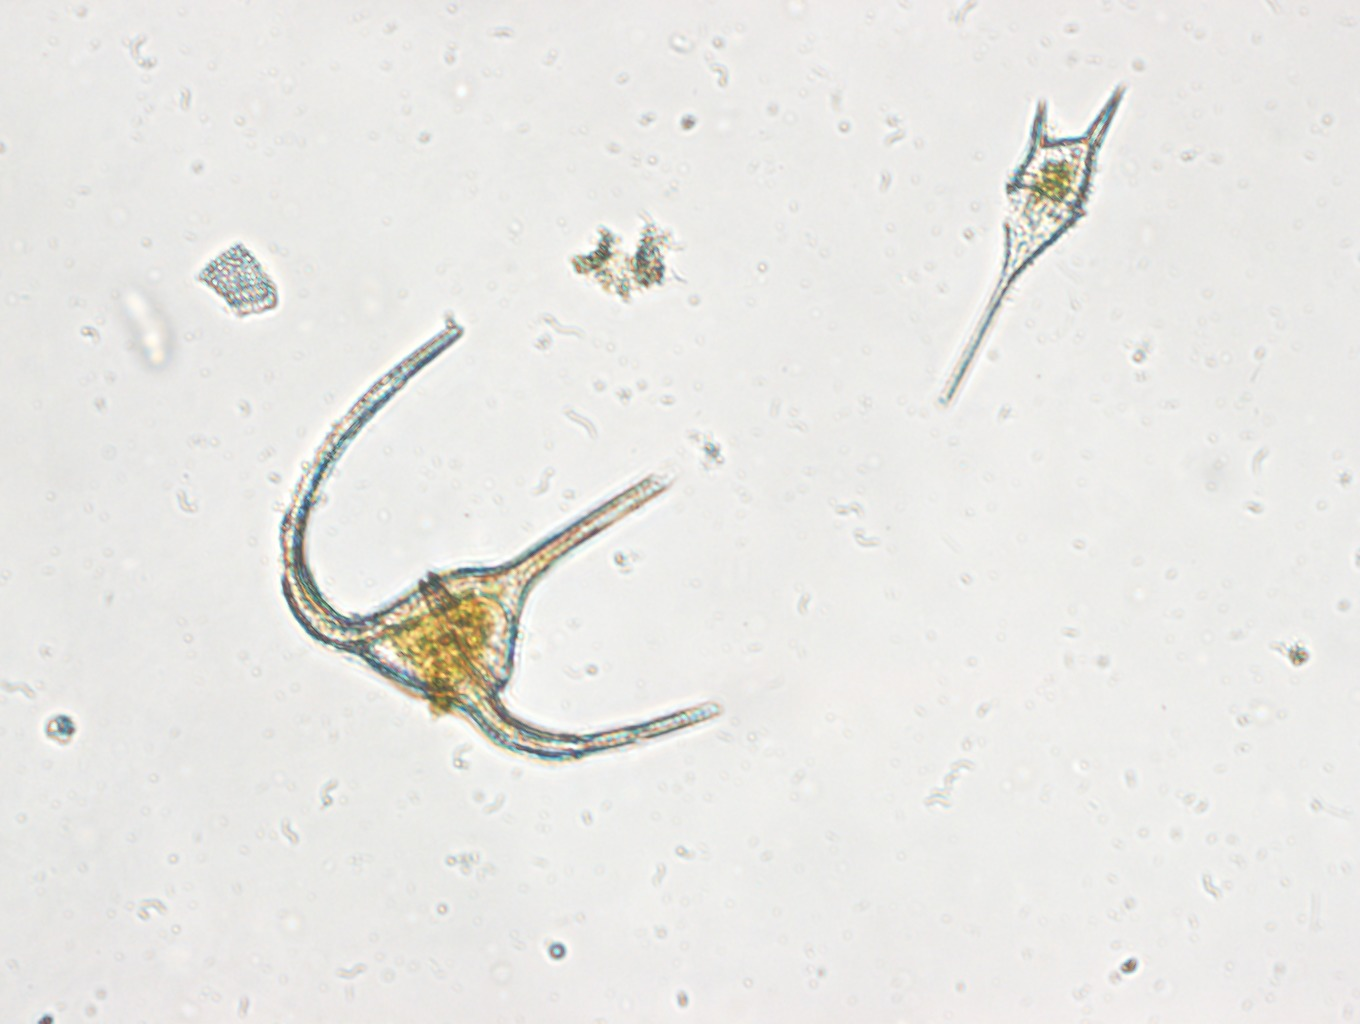ceratium furca: (937, 74, 1127, 412)
ceratium trichoceros: (262, 309, 733, 768)
